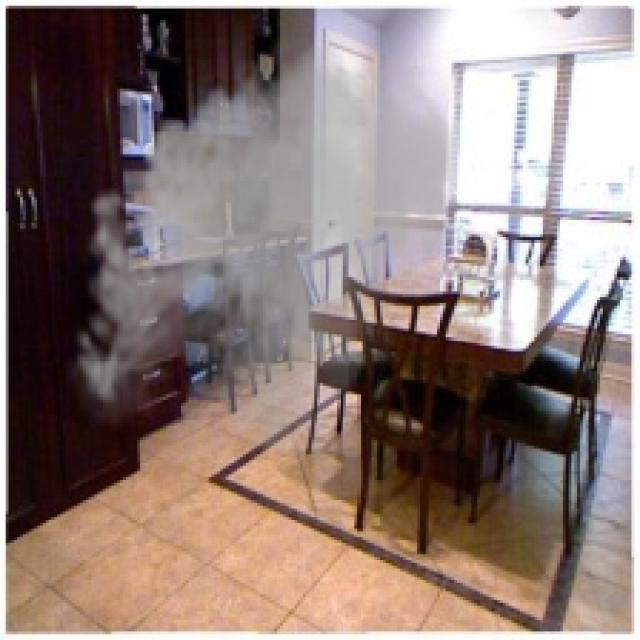Smoke: (63, 28, 466, 454)
